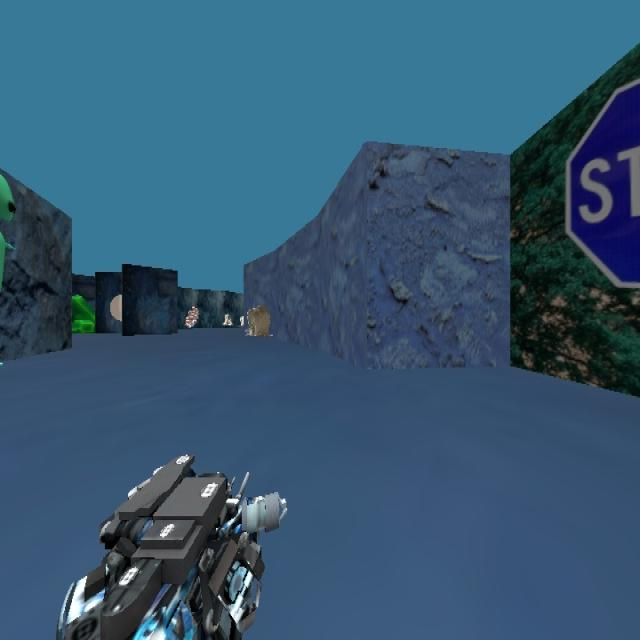Alien: (0, 153, 18, 367)
Circle: (106, 286, 138, 327)
Diamon: (66, 284, 95, 335)
Ice: (246, 303, 270, 336)
Mushroom: (184, 299, 202, 340)
Stop_Sign: (564, 78, 639, 290)
